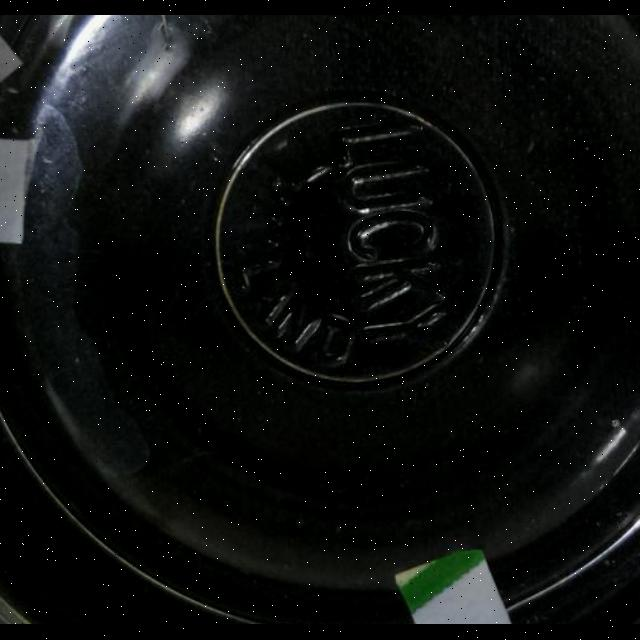Fragment: (398, 549, 518, 625), (0, 130, 38, 244), (0, 15, 23, 119)
